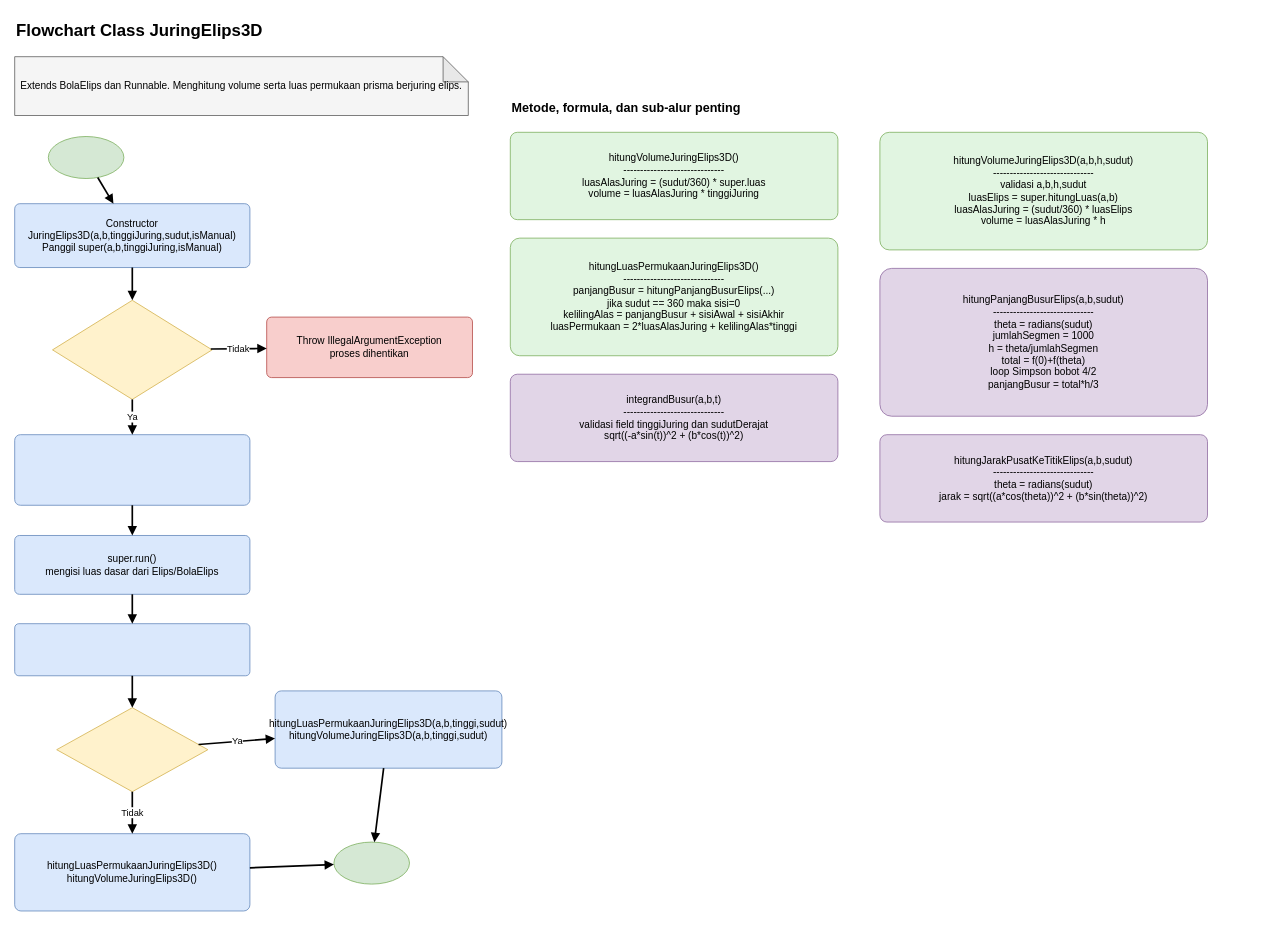
Image size: 1281x926. Some labels were removed from this diagram. The box of each missing label's shape, as (x1, y1, x2, y2) in pixels:
End: (333, 841, 410, 884)
Input valid? a > 0 dan b > 0 a >= b tinggiJuring > 0 0 < sudut <= 360: (52, 299, 212, 399)
isManual?: (56, 707, 208, 792)
run() class ini dipanggil: (14, 623, 250, 676)
Simpan tinggiJuring dan sudutDerajat: (14, 434, 250, 505)
Start: (47, 136, 124, 178)
